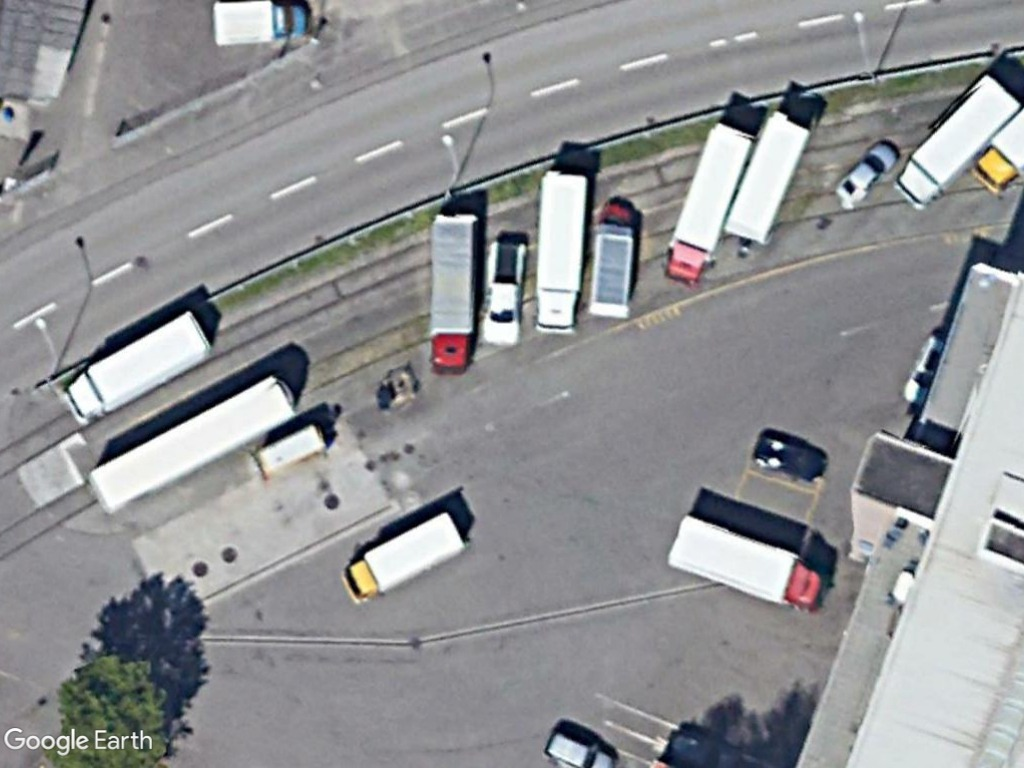car: (831, 139, 899, 207)
longvehicle: (92, 370, 298, 517)
others: (475, 235, 525, 350)
truck: (61, 300, 214, 430), (653, 123, 761, 288), (892, 75, 1023, 211), (667, 509, 831, 617), (338, 505, 466, 609), (529, 159, 590, 336), (425, 204, 479, 378), (585, 195, 641, 321), (207, 0, 309, 47)
